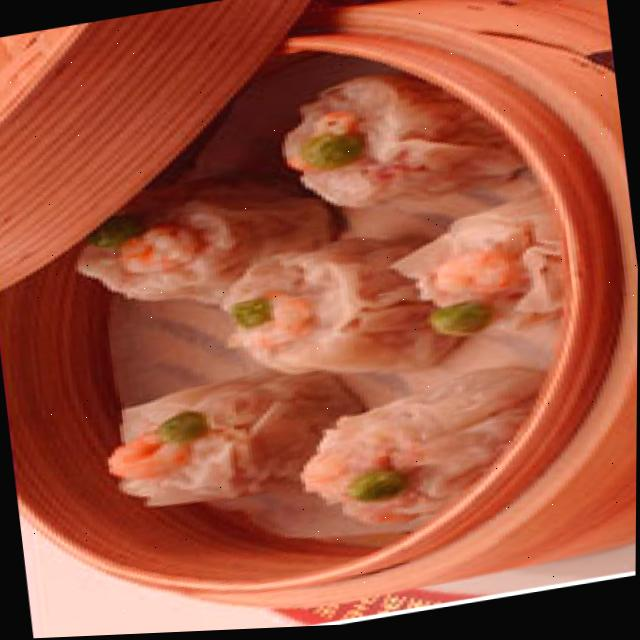带馅早点: (43, 55, 536, 562)
